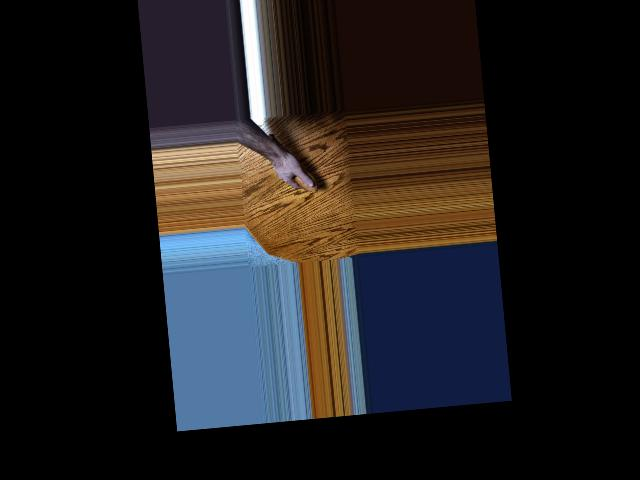sweet_potato: (263, 127, 318, 197)
